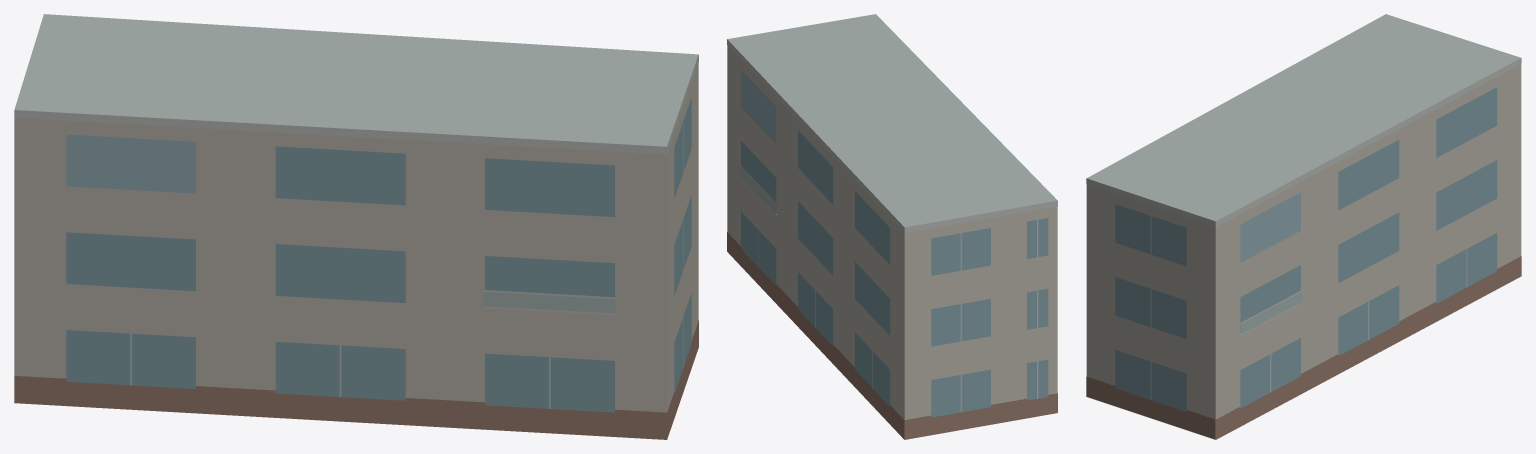
The model's file is survey-upis-32943803.glb.
3 views of the same model, side by side, from view 1: azimuth 30°, elevation 25°; view 2: azimuth 150°, elevation 25°; view 3: azimuth 270°, elevation 25° (orthographic). The views are drawn at different scales.
Visible parts, largest first — view 1: survey-upis-32943803.tmp; view 2: survey-upis-32943803.tmp; view 3: survey-upis-32943803.tmp.
Boxes of the visible parts, x1,y1,x2,y2 form: survey-upis-32943803.tmp: (14, 14, 698, 439); survey-upis-32943803.tmp: (727, 14, 1057, 439); survey-upis-32943803.tmp: (1086, 14, 1521, 439).
Size of the model in its own units: 18.64 by 9.15 by 16.52.
